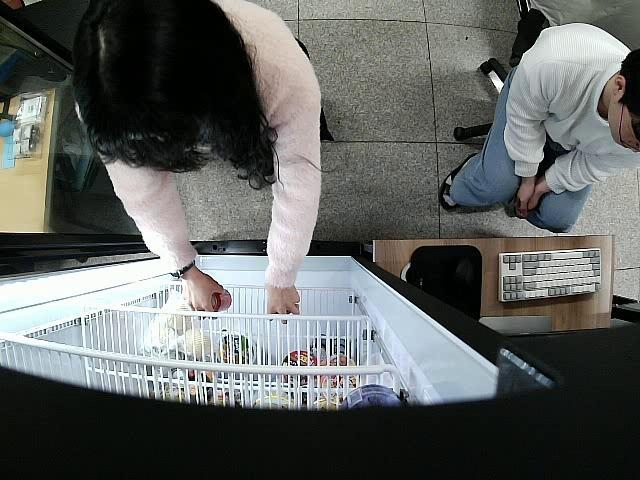11_cocaColaZero: (210, 290, 232, 313)
